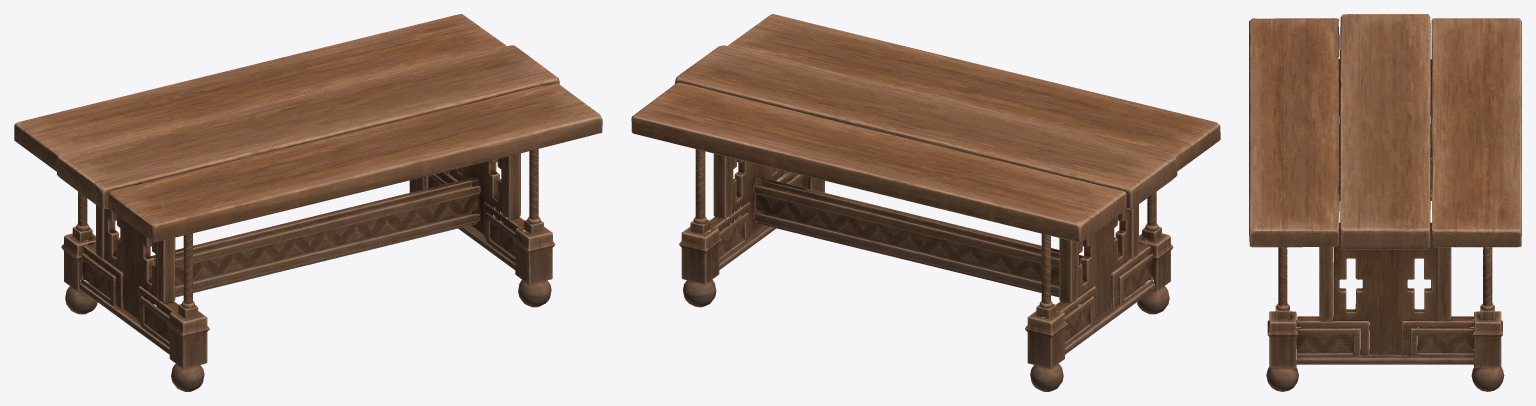
The picture shows the model from 3 angles, left to right: view 1: azimuth 30°, elevation 25°; view 2: azimuth 150°, elevation 25°; view 3: azimuth 270°, elevation 25°; orthographic projection. The views are drawn at different scales.
Visible parts, largest first — view 1: SM_Umbral_Sands_Table_01v1_LOD0; view 2: SM_Umbral_Sands_Table_01v1_LOD0; view 3: SM_Umbral_Sands_Table_01v1_LOD0.
Part boxes in pixels (left/top/right/bottom): SM_Umbral_Sands_Table_01v1_LOD0: left=14, top=14, right=602, bottom=391; SM_Umbral_Sands_Table_01v1_LOD0: left=631, top=14, right=1220, bottom=391; SM_Umbral_Sands_Table_01v1_LOD0: left=1249, top=14, right=1521, bottom=391.
Bounding box in the file's own units: 2.25 × 0.9074 × 1.2.
Materials: 1 (1 with a texture image).
